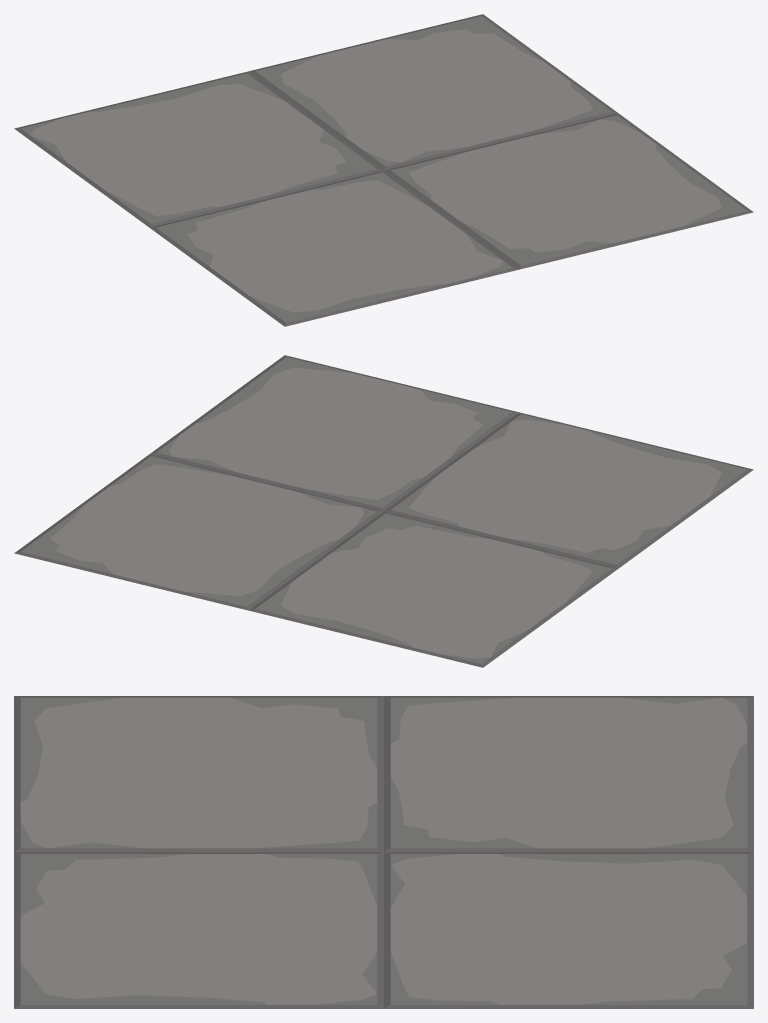
Rendered from SM_Env_Ground_Pavement_01.fbx.
3 views of the same model, one above another, from view 1: azimuth 30°, elevation 25°; view 2: azimuth 150°, elevation 25°; view 3: azimuth 270°, elevation 25° (orthographic). The views are drawn at different scales.
Visible parts, largest first — view 1: SM_Env_Ground_Pavement_01; view 2: SM_Env_Ground_Pavement_01; view 3: SM_Env_Ground_Pavement_01.
Boxes of the visible parts, x1,y1,x2,y2 form: SM_Env_Ground_Pavement_01: [14, 14, 753, 326]; SM_Env_Ground_Pavement_01: [14, 355, 753, 667]; SM_Env_Ground_Pavement_01: [14, 696, 753, 1008].
Bounding box in the file's own units: 1000 × 1.83 × 1000.
